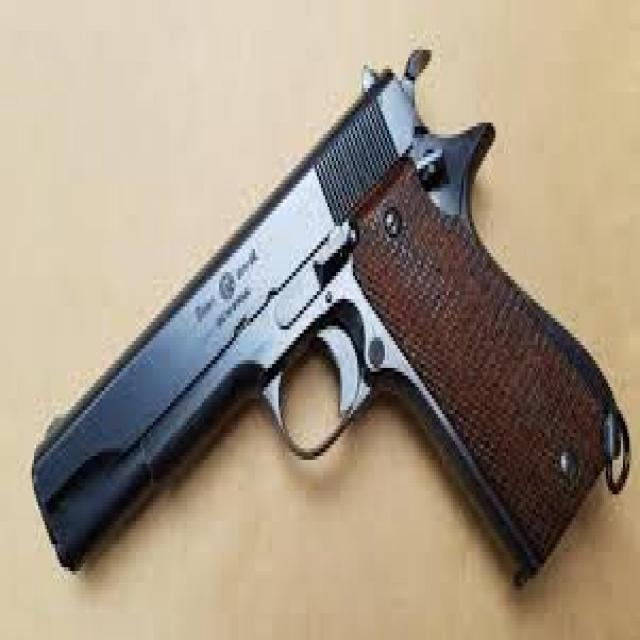semi automatic: (22, 29, 636, 589)
